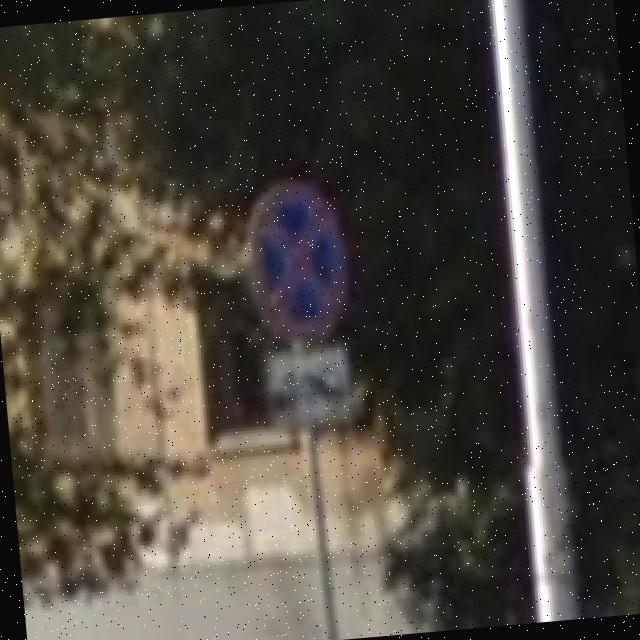Zakaz zatrzymywania sie: (236, 172, 352, 348)
